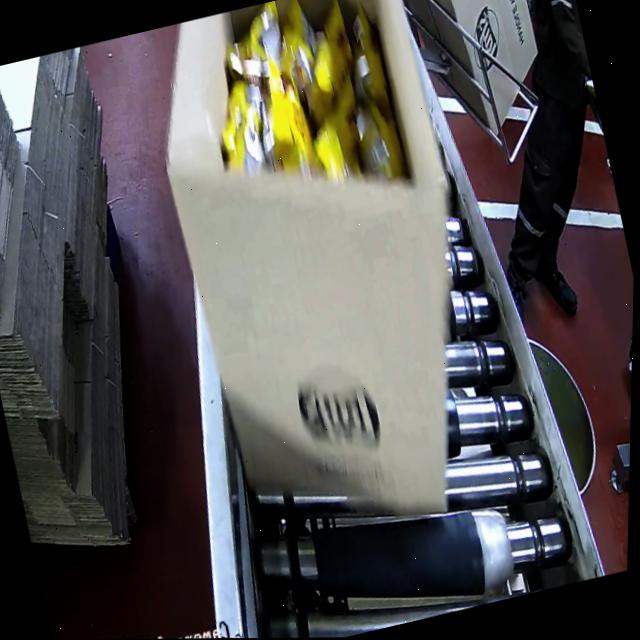SALTED: (185, 0, 415, 226)
